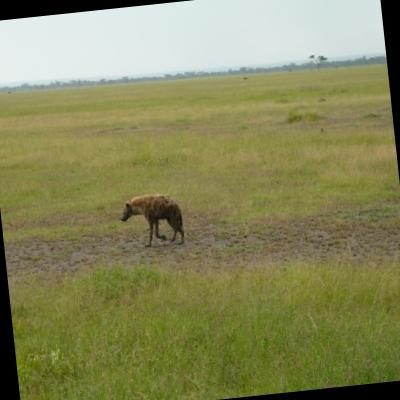hyenas: (97, 174, 207, 256)
